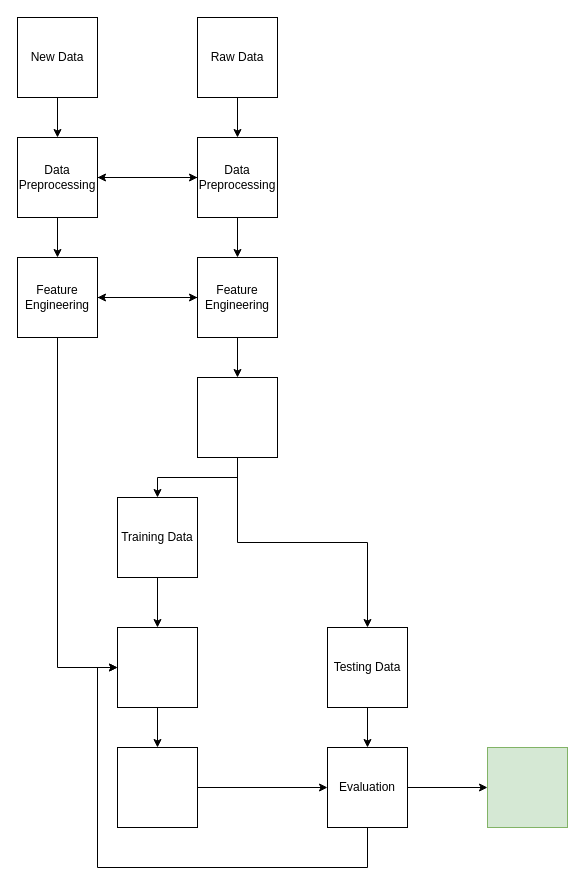
This 585x893 diagram has some shape labels left out. Each missing label, with the centre of its shape:
Best Model: the point at 527,787
Data Splitting: the point at 237,417
Hyper parameter tuning: the point at 157,787
Modelling: the point at 157,667
